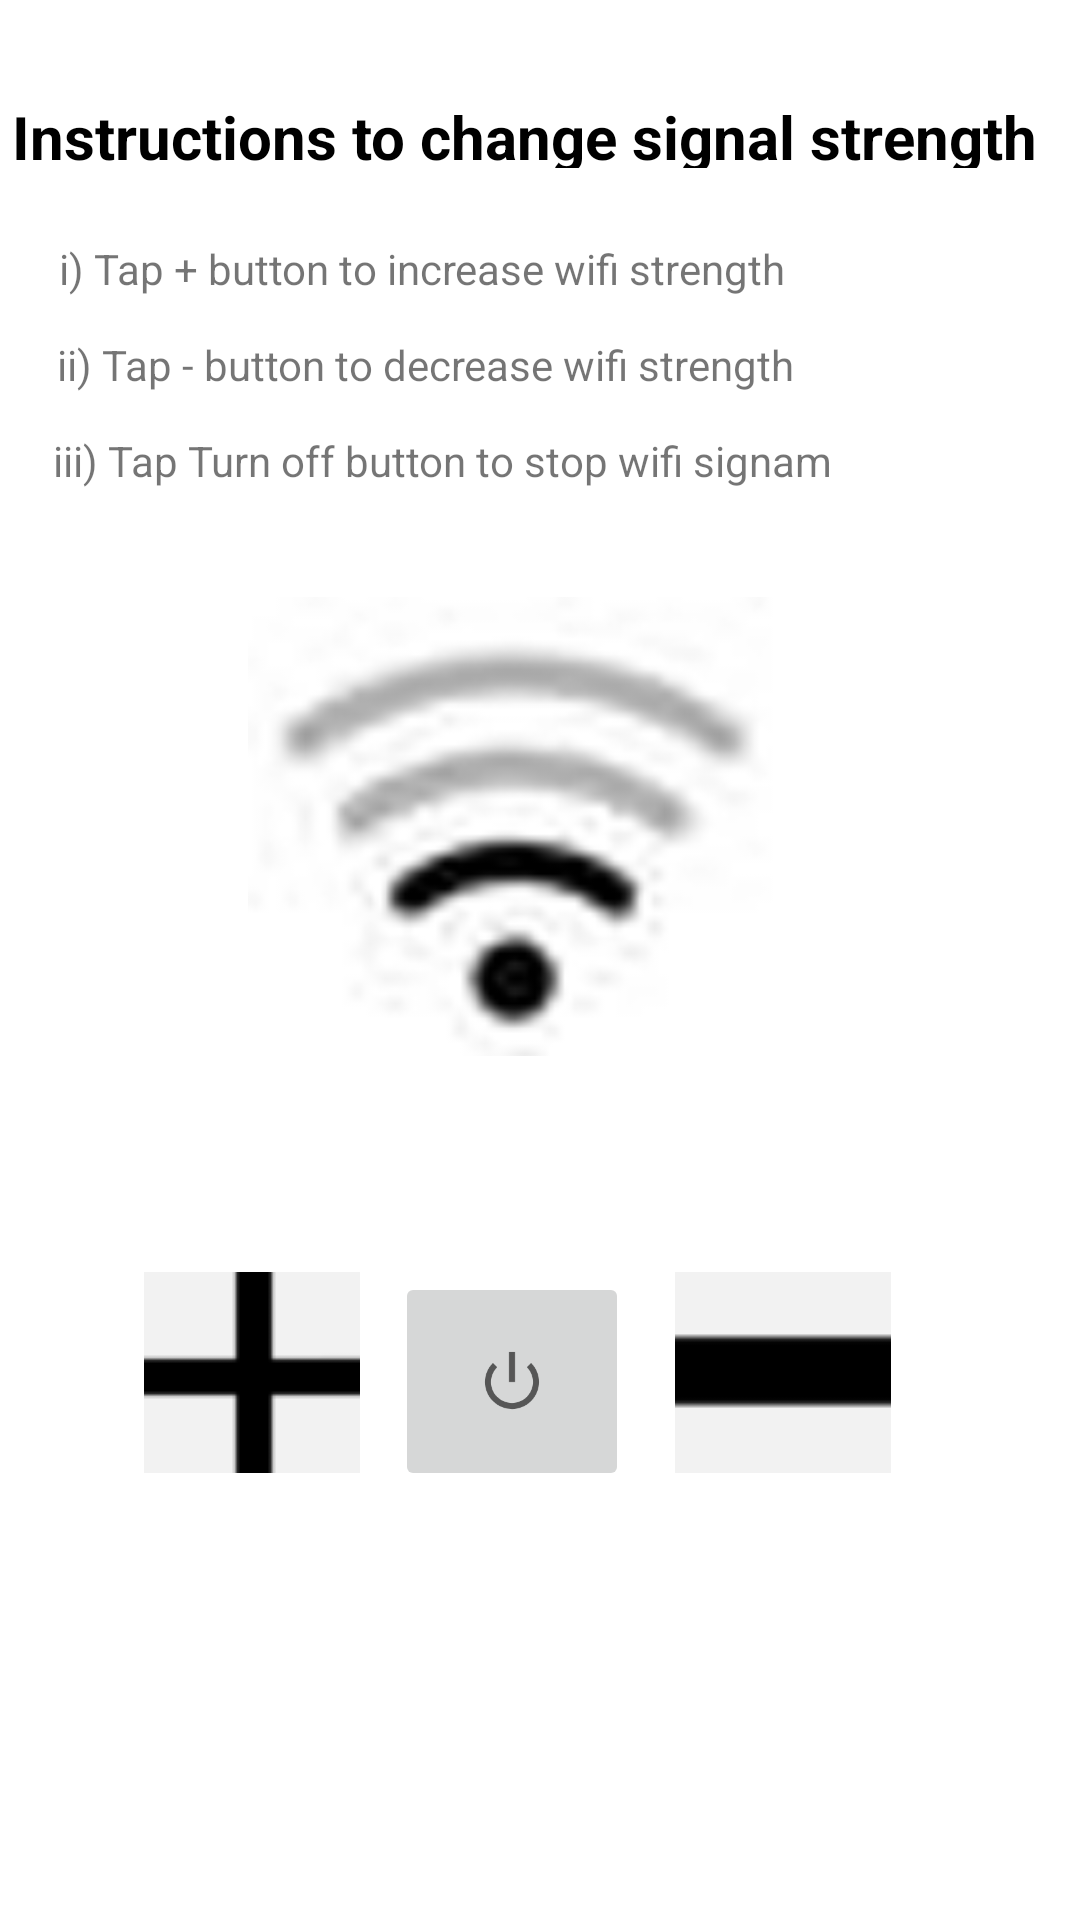

Icon click points for this 1080*1920 phone screenshot, format [x,y]:
add: [252,1372]
decrease: [783,1371]
lock power off: [512,1381]
